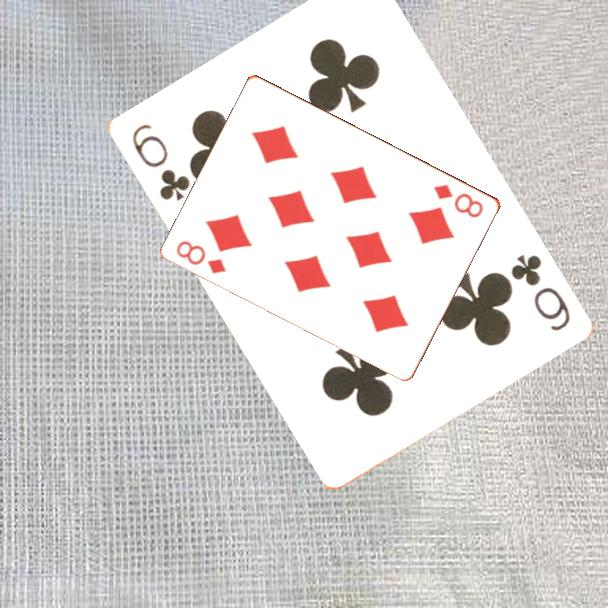c06: (506, 250, 573, 335), (127, 120, 193, 204)
d08: (430, 180, 487, 221), (173, 237, 230, 276)
